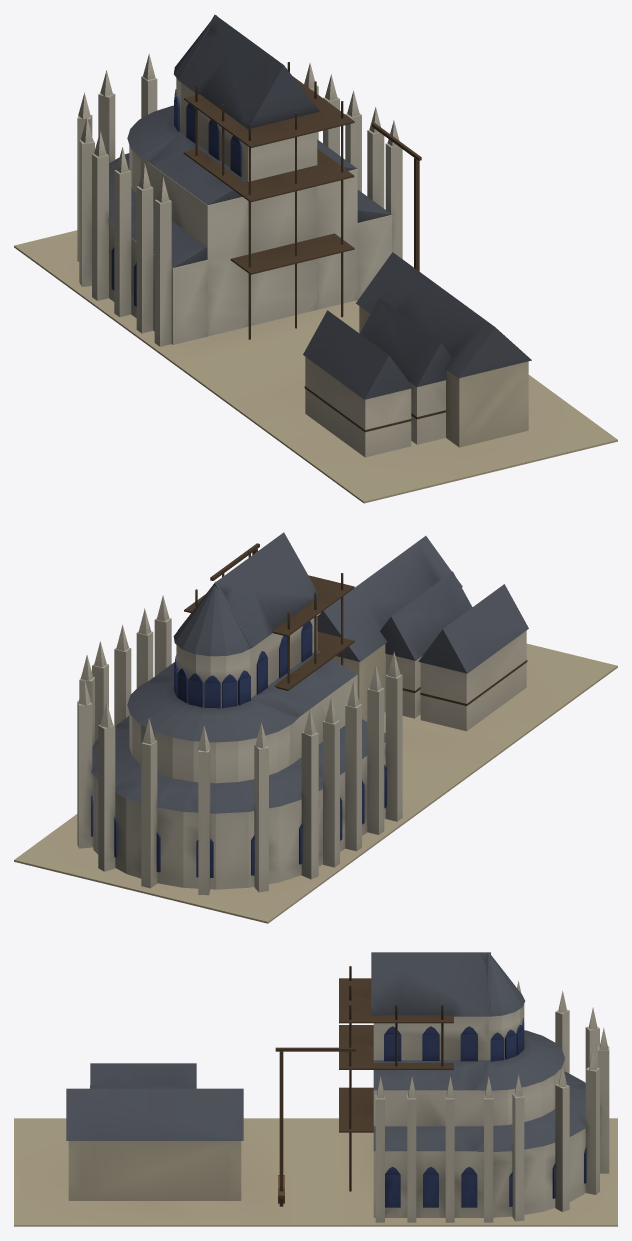
File: saint-eustache-1550.glb
The picture shows the model from 3 angles, top to bottom: view 1: azimuth 30°, elevation 25°; view 2: azimuth 150°, elevation 25°; view 3: azimuth 270°, elevation 25°; orthographic projection. The views are drawn at different scales.
Visible parts, largest first — view 1: p0_choir rising, p1_scaffolds, seu_naveroof, seu_air0-1, seu_bp-11, seu_bp-10, seu_bp-12, seu_bp-13, seu_abp6, seu_ambr0, seu_bp10, seu_air1-1 (+3 smaller); view 2: p0_choir rising, p1_scaffolds, seu_naveroof, seu_ambr0, seu_ambr1, seu_apser, seu_air0-1, seu_bp-11, seu_abp2, seu_abp6, seu_bp-10, seu_bp-13 (+10 smaller); view 3: p0_choir rising, p1_scaffolds, seu_naveroof, seu_ambr0, seu_air01, seu_ambr1, seu_air11, seu_abp1, seu_abp2, seu_abp0, seu_apser, seu_abp3 (+6 smaller).
Boxes of the visible parts, x1,y1,x2,y2 form: p0_choir rising: [14, 78, 617, 503]; p1_scaffolds: [183, 62, 531, 457]; seu_naveroof: [178, 14, 319, 128]; seu_air0-1: [149, 132, 247, 205]; seu_bp-11: [136, 186, 153, 333]; seu_bp-10: [154, 199, 171, 346]; seu_bp-12: [114, 170, 131, 317]; seu_bp-13: [92, 153, 108, 300]; seu_abp6: [79, 139, 94, 286]; seu_ambr0: [127, 105, 180, 161]; seu_bp10: [385, 143, 402, 258]; seu_air1-1: [131, 203, 207, 267]; p0_choir rising: [14, 615, 617, 923]; p1_scaffolds: [184, 536, 528, 731]; seu_naveroof: [178, 532, 319, 648]; seu_ambr0: [127, 681, 298, 742]; seu_ambr1: [91, 727, 323, 813]; seu_apser: [173, 581, 251, 656]; seu_air0-1: [251, 650, 357, 717]; seu_bp-11: [367, 688, 384, 834]; seu_abp2: [98, 724, 115, 871]; seu_abp6: [301, 732, 318, 879]; seu_bp-10: [385, 674, 402, 821]; seu_bp-13: [323, 720, 339, 867]; p0_choir rising: [14, 1007, 617, 1226]; p1_scaffolds: [66, 966, 453, 1206]; seu_naveroof: [371, 952, 490, 1016]; seu_ambr0: [475, 1030, 564, 1090]; seu_air01: [373, 1060, 488, 1090]; seu_ambr1: [475, 1071, 586, 1152]; seu_air11: [373, 1126, 483, 1151]; seu_abp1: [555, 1084, 569, 1211]; seu_abp2: [585, 1067, 599, 1194]; seu_abp0: [512, 1093, 524, 1221]; seu_apser: [486, 952, 525, 1016]; seu_abp3: [598, 1046, 609, 1173].
Bounding box in the file's own units: 44 × 42.4 × 105.
